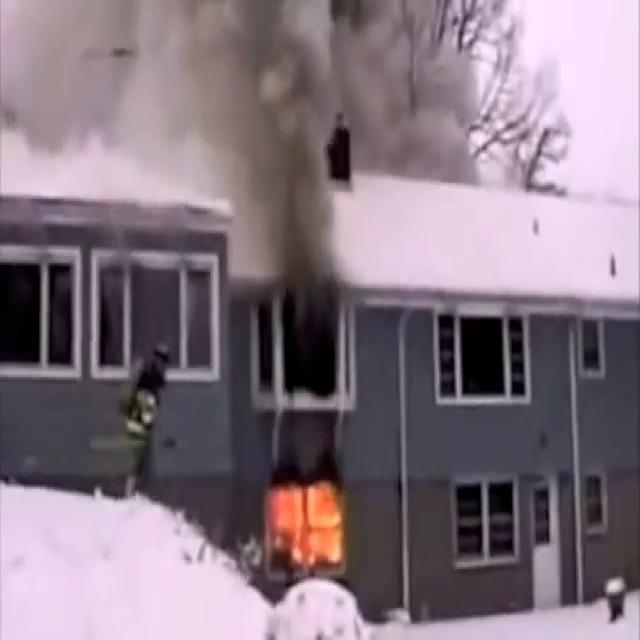Fire: (272, 483, 350, 573)
Smoke: (0, 0, 485, 203), (196, 0, 368, 299)
